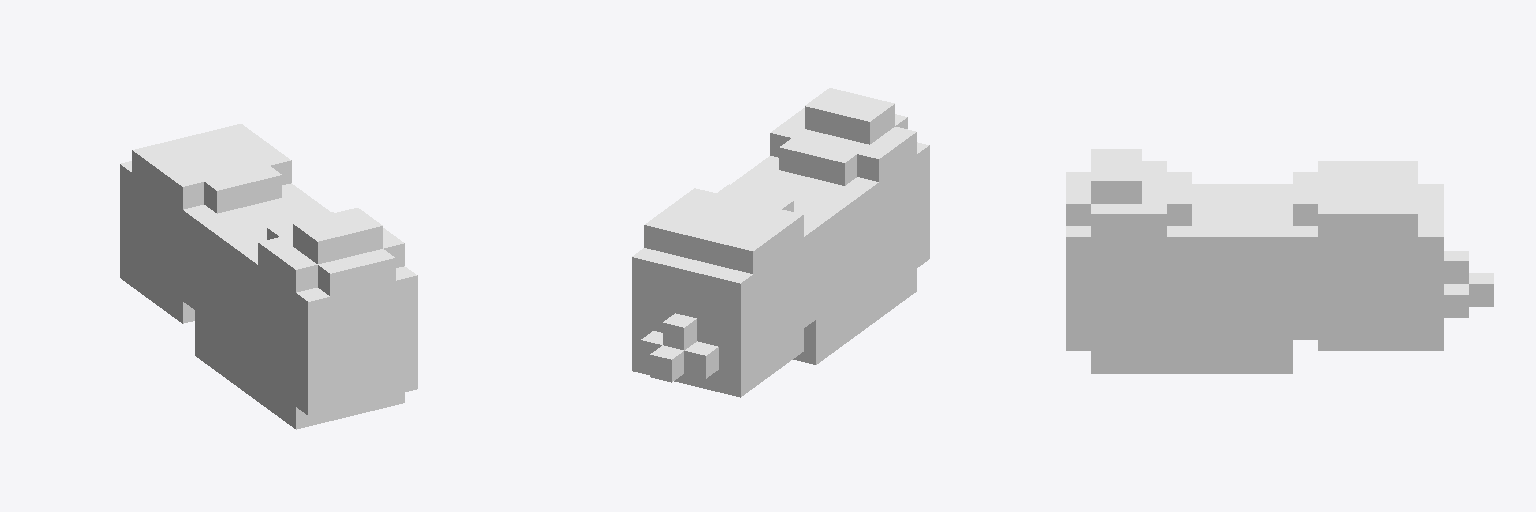
Rendered from anim_penguin_v2_skies_body_with_head.obj.
The picture shows the model from 3 angles: view 1: azimuth 30°, elevation 25°; view 2: azimuth 150°, elevation 25°; view 3: azimuth 270°, elevation 25°; orthographic projection.
Visible parts, largest first — view 1: object 1; view 2: object 1; view 3: object 1.
Boxes of the visible parts, x1,y1,x2,y2 form: object 1: [120, 124, 417, 429]; object 1: [632, 88, 929, 397]; object 1: [1066, 149, 1493, 373].
Bounding box in the file's own units: 0.5 × 0.8 × 1.7.